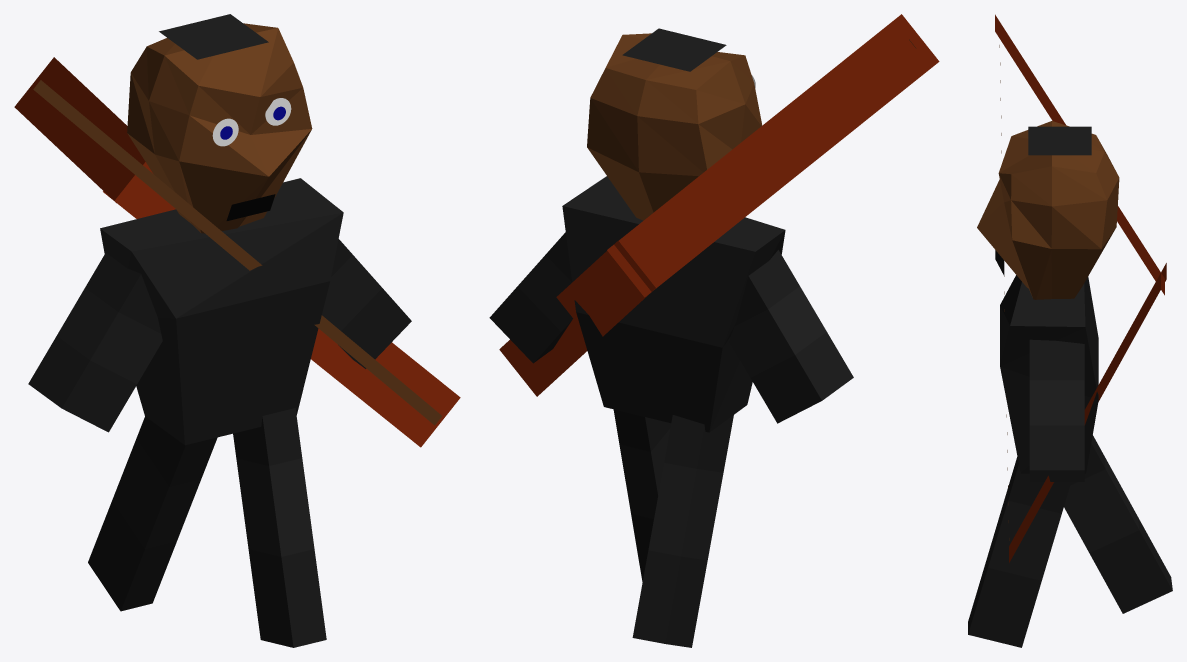
The model's file is heavyarcher2.obj.
3 views of the same model, side by side, from view 1: azimuth 30°, elevation 25°; view 2: azimuth 150°, elevation 25°; view 3: azimuth 270°, elevation 25° (orthographic). The views are drawn at different scales.
Visible parts, largest first — view 1: Cube.001, Cube, Cube.005, Cube.003, Cube.004, Plane.001_Plane.002, Plane.002_Plane.003, Plane.003_Plane.004, Cube.002, Plane.004_Plane.001, Plane; view 2: Cube.001, Plane.002_Plane.003, Cube, Cube.004, Cube.003, Plane.001_Plane.002, Cube.002, Cube.005, Plane.004_Plane.001; view 3: Cube, Cube.005, Cube.001, Cube.004, Cube.002, Plane.001_Plane.002, Plane.002_Plane.003, Plane.004_Plane.001.
Part boxes in pixels (x1,y1,x2,y2): Cube.001: (100, 178, 343, 445); Cube: (127, 23, 312, 233); Cube.005: (233, 408, 326, 647); Cube.003: (28, 253, 162, 432); Cube.004: (88, 416, 217, 611); Plane.001_Plane.002: (103, 162, 460, 447); Plane.002_Plane.003: (14, 57, 145, 202); Plane.003_Plane.004: (33, 80, 441, 425); Cube.002: (322, 239, 411, 368); Plane.004_Plane.001: (159, 14, 268, 59); Plane: (226, 194, 275, 220); Cube.001: (562, 176, 785, 432); Plane.002_Plane.003: (607, 14, 939, 297); Cube: (587, 33, 762, 220); Cube.004: (632, 415, 733, 647); Cube.003: (729, 250, 853, 423); Plane.001_Plane.002: (499, 240, 655, 396); Cube.002: (489, 232, 572, 363); Cube.005: (613, 409, 671, 581); Plane.004_Plane.001: (622, 28, 726, 71); Cube: (977, 121, 1119, 299); Cube.005: (968, 457, 1071, 647); Cube.001: (1000, 275, 1098, 473); Cube.004: (1064, 435, 1172, 613); Cube.002: (1029, 339, 1084, 481); Plane.001_Plane.002: (1009, 263, 1166, 562); Plane.002_Plane.003: (995, 14, 1164, 295); Plane.004_Plane.001: (1028, 126, 1091, 155).
Size of the model in its own units: 4.75 by 6.48 by 2.26.
